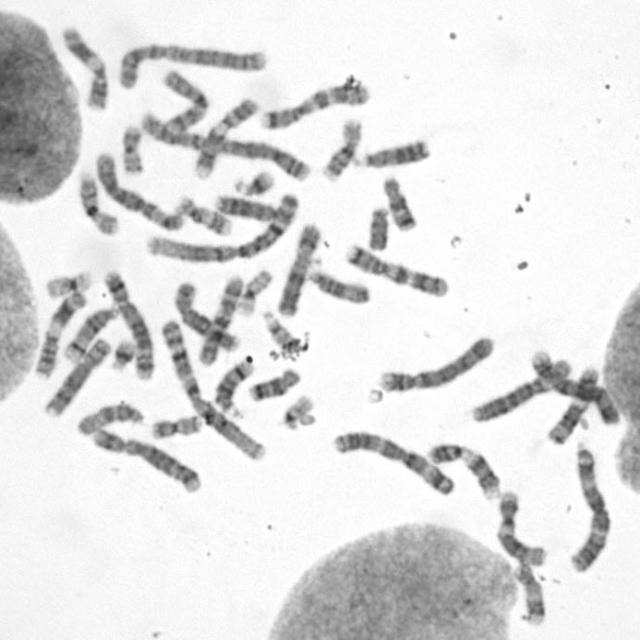A1: (158, 314, 267, 461), (141, 190, 303, 265)
A2: (135, 109, 314, 183), (111, 38, 268, 89)
A3: (329, 427, 457, 498), (564, 440, 612, 572)
B4: (373, 332, 497, 395), (528, 345, 622, 426)
B5: (88, 424, 203, 494), (101, 266, 155, 383)
C10: (194, 272, 247, 368), (157, 66, 211, 136)
C11: (30, 288, 88, 380), (58, 22, 110, 112)
C12: (544, 363, 600, 446), (493, 488, 549, 566)
C6: (92, 148, 186, 232), (468, 352, 574, 424)
C7: (341, 239, 452, 299), (256, 78, 373, 132)
C8: (40, 336, 112, 418), (170, 277, 241, 354)
C9: (190, 92, 262, 180), (423, 439, 503, 501)
D13: (351, 135, 432, 170), (212, 189, 282, 222)
D14: (60, 304, 120, 362), (208, 357, 254, 417)
D15: (73, 398, 146, 438), (303, 264, 371, 305)
E16: (318, 115, 364, 183), (75, 168, 121, 236)
E17: (172, 192, 235, 238), (512, 558, 548, 628)
E18: (378, 174, 418, 232), (245, 364, 302, 403)
F19: (234, 264, 274, 318), (43, 266, 94, 298)
F20: (148, 411, 204, 441), (116, 122, 146, 177)
G21: (231, 166, 278, 197), (108, 336, 138, 374)
G22: (259, 306, 300, 356), (279, 391, 317, 431)
X: (274, 219, 324, 319)
Y: (363, 204, 392, 252)
